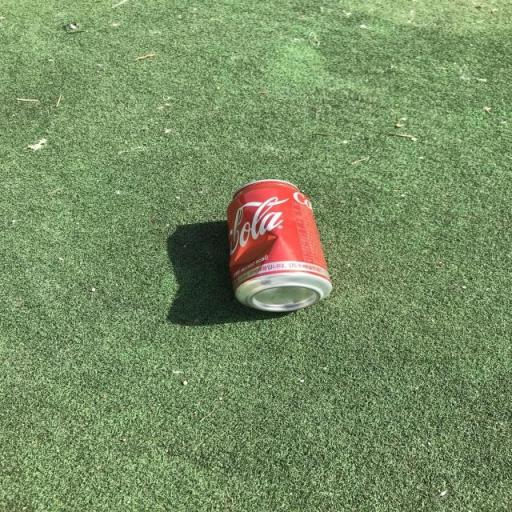metal: (218, 168, 340, 328)
